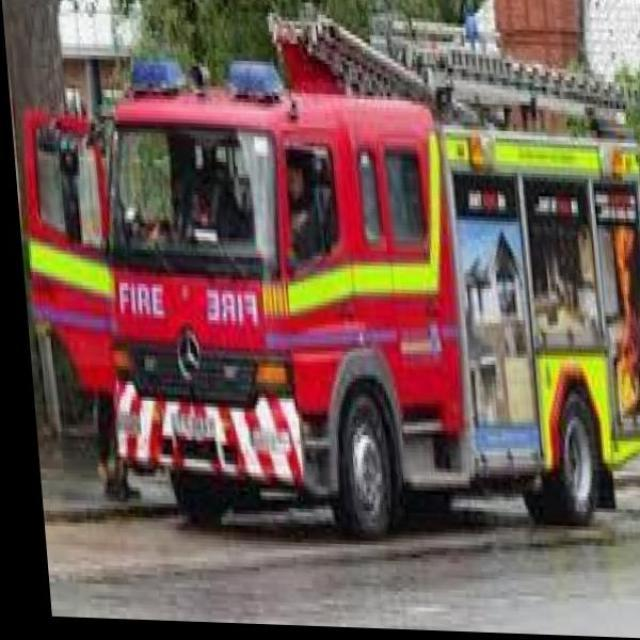emergency: (20, 51, 638, 539)
